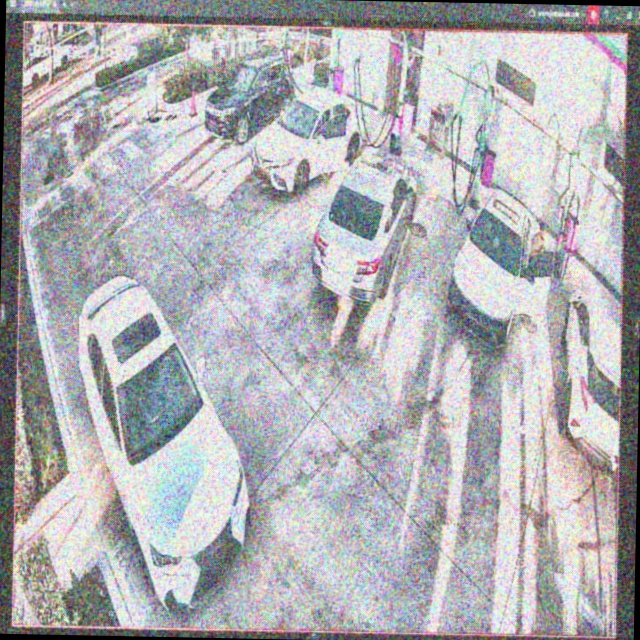Car: (72, 275, 257, 615), (447, 185, 554, 351), (311, 154, 419, 304), (253, 90, 367, 191), (204, 57, 295, 147)
